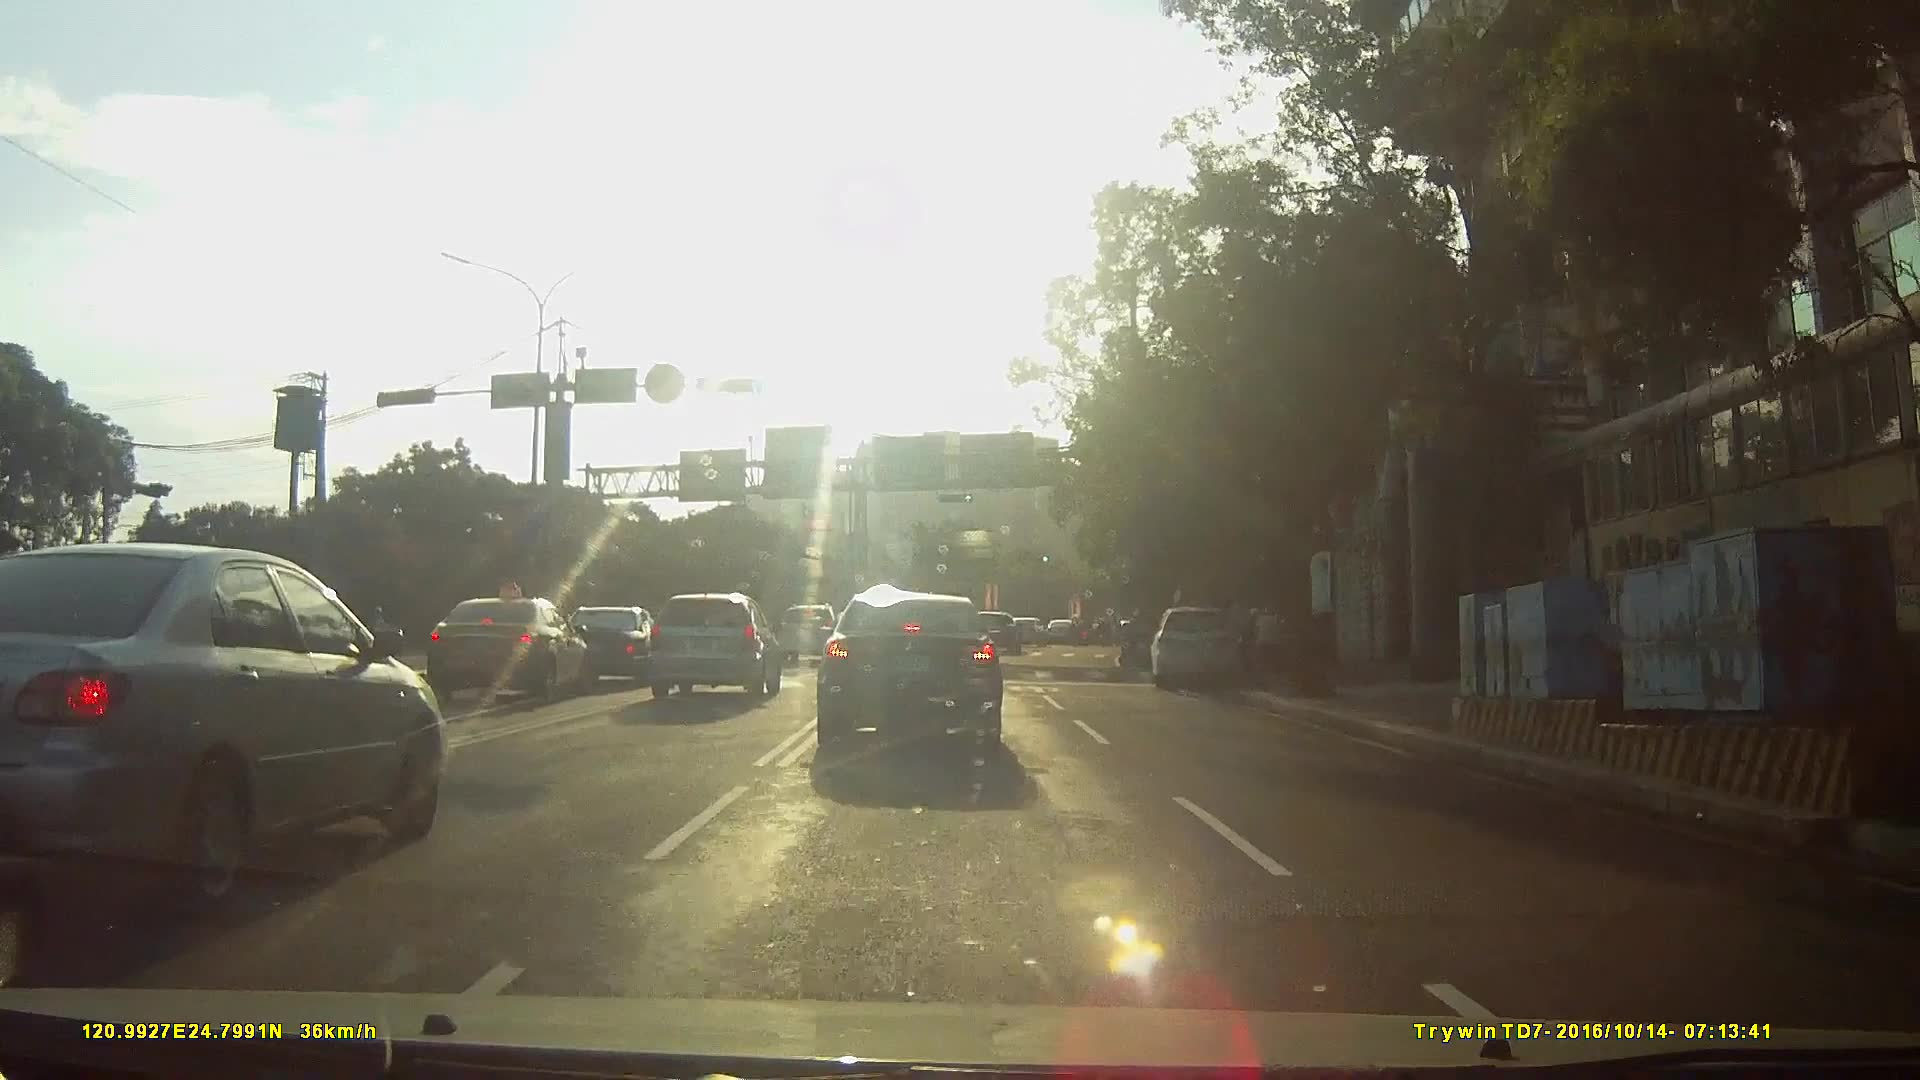pedestrian: (1249, 607, 1285, 675)
vehicle: (1, 540, 464, 911), (808, 598, 1020, 775), (398, 599, 576, 710), (643, 591, 782, 703), (1150, 603, 1259, 692), (539, 607, 656, 691), (778, 605, 846, 669), (968, 613, 1026, 659), (1011, 620, 1050, 652), (1045, 620, 1086, 648)
